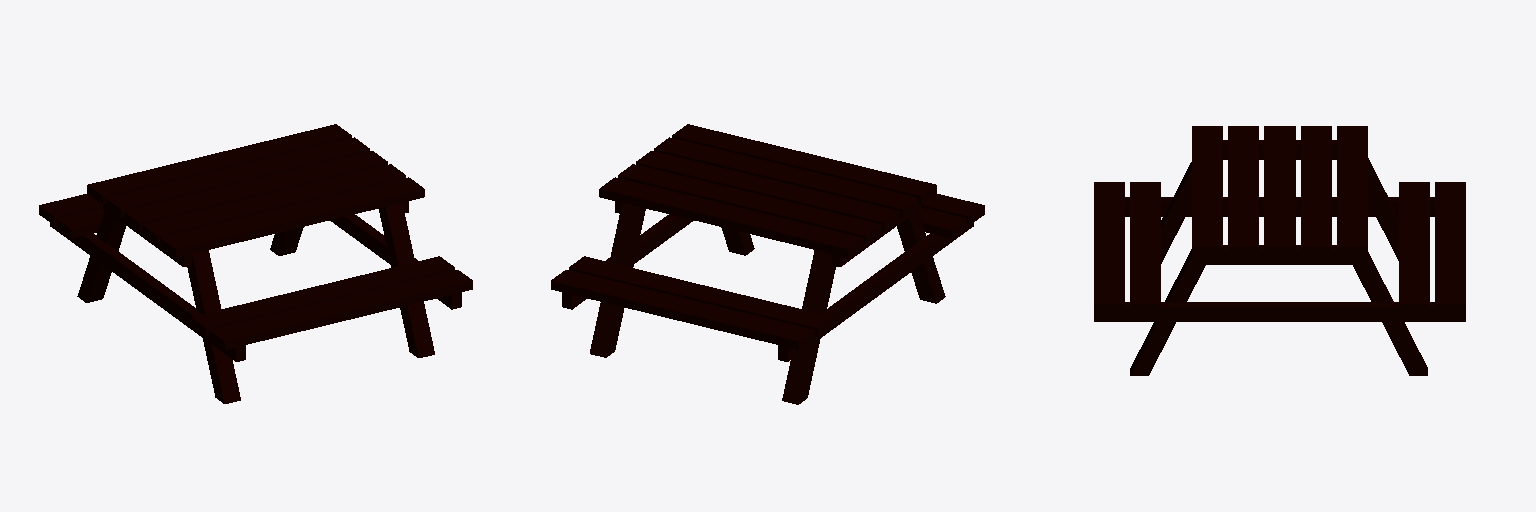
Rendered from cadeira_e_mesa.obj.
The picture shows the model from 3 angles: view 1: azimuth 30°, elevation 25°; view 2: azimuth 150°, elevation 25°; view 3: azimuth 270°, elevation 25°; orthographic projection.
Parts seen in each view (by area): view 1: Park_bench; view 2: Park_bench; view 3: Park_bench.
Boxes of the visible parts, x1,y1,x2,y2 form: Park_bench: [39, 124, 472, 403]; Park_bench: [551, 124, 984, 404]; Park_bench: [1094, 126, 1465, 375].
Bounding box in the file's own units: 15 × 7.98 × 19.42.